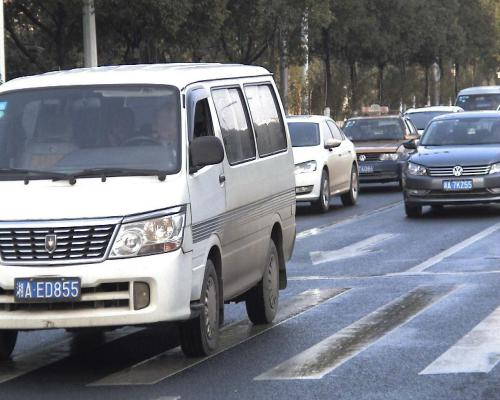Carplate: (8, 273, 85, 305), (444, 178, 475, 193)
